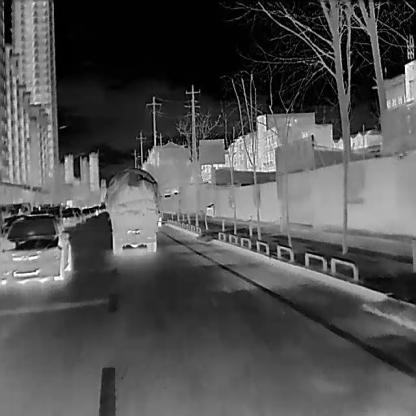car: (104, 166, 163, 255), (0, 212, 71, 284), (61, 207, 77, 226), (206, 201, 216, 217), (81, 207, 91, 218)
